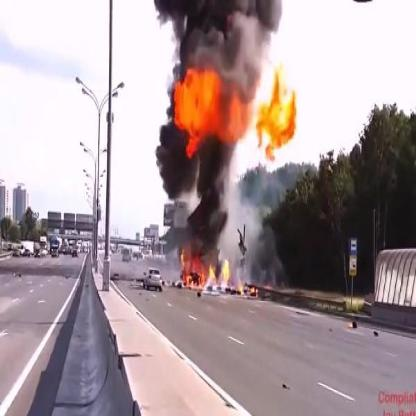fire: (169, 54, 300, 164), (177, 249, 231, 296), (237, 277, 259, 300)
